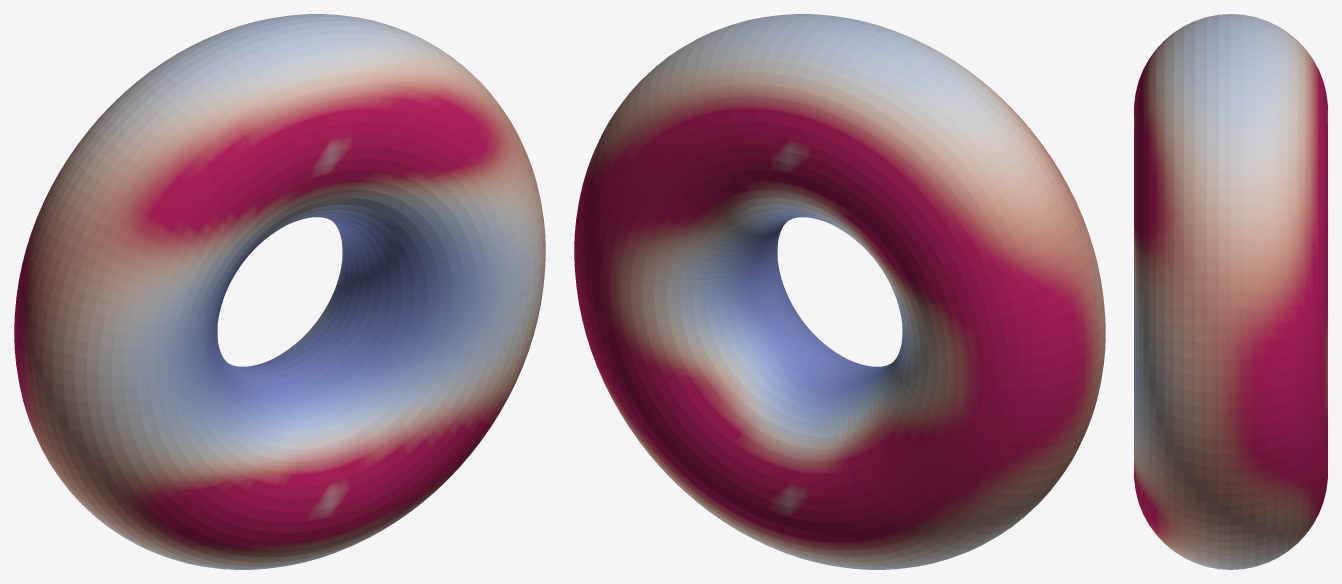
3 views of the same model, side by side, from view 1: azimuth 30°, elevation 25°; view 2: azimuth 150°, elevation 25°; view 3: azimuth 270°, elevation 25° (orthographic). The views are drawn at different scales.
Visible parts, largest first — view 1: world; view 2: world; view 3: world.
Boxes of the visible parts, x1=… form: world: x1=14, y1=14, x2=545, y2=569; world: x1=574, y1=14, x2=1105, y2=569; world: x1=1134, y1=14, x2=1327, y2=569.
Size of the model in its own units: 22.53 by 22.53 by 7.85.
